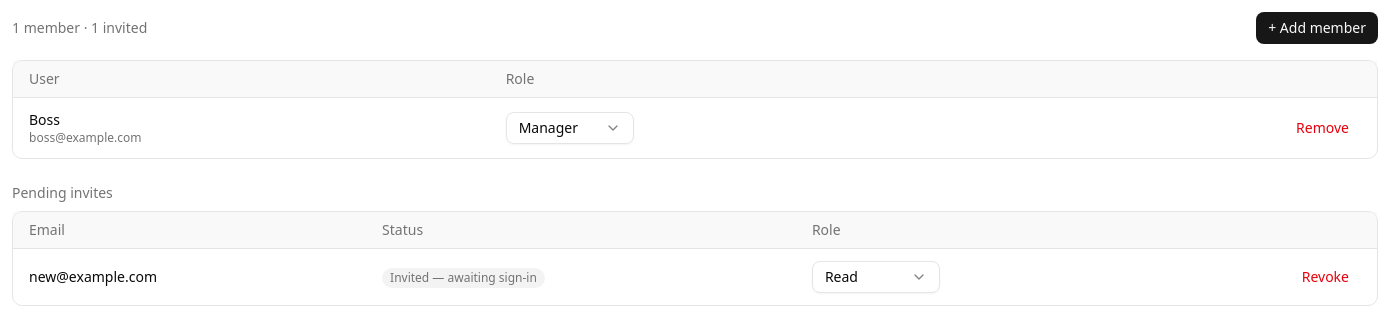
Test: reloads the members when a revoke finds the invite already accepted
The width and height of the screenshot is (1390, 323).
What coordinates should you click on to do the following:
click the button with test id "invite-revoke-new@example.com"
I would click on:
 (1325, 277)
Its box is x1=1290 y1=261 x2=1361 y2=293.
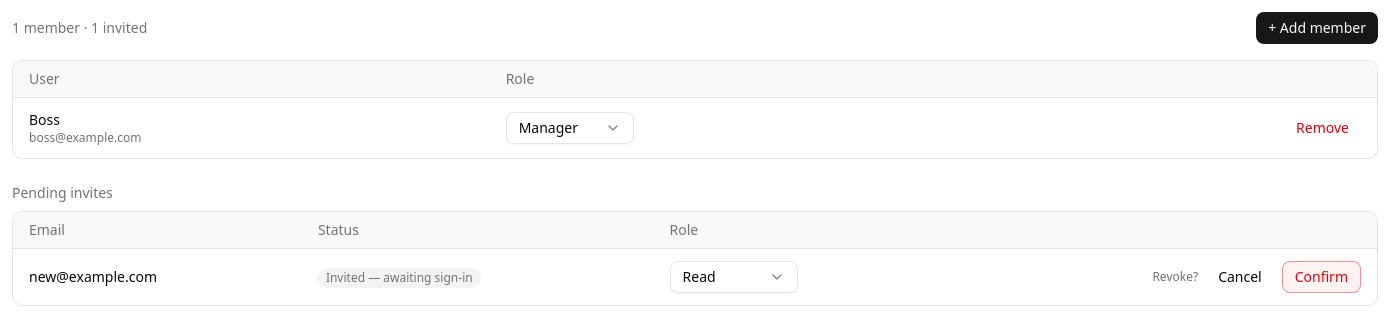
What coordinates should you click on to do the following:
click the button with test id "confirm-revoke-invite-new@example.com"
I would click on:
 (1321, 277)
Its box is x1=1282 y1=261 x2=1361 y2=293.
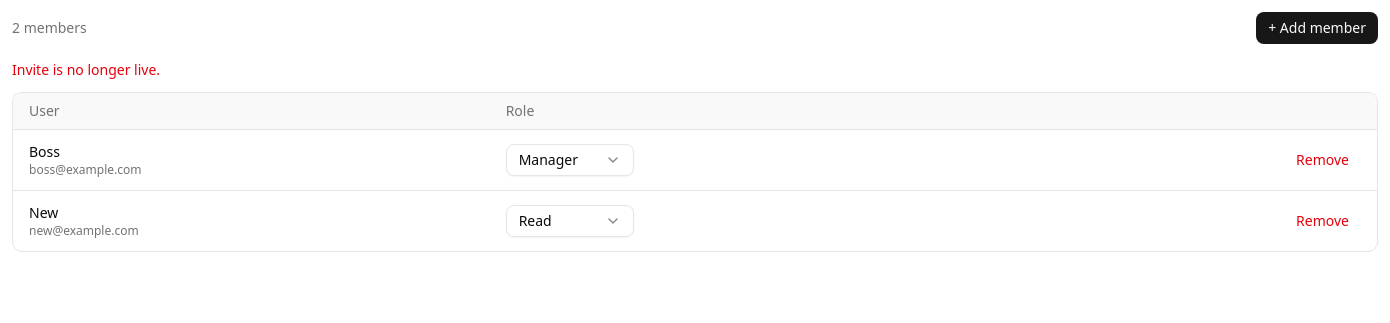
Check: the row with test id "member-row-m-2" is shown, box x1=13 y1=190 x2=1377 y2=251
Check: the text with test id "members-mutation-error" reads "Invite is no longer live.", box x1=12 y1=60 x2=160 y2=79
